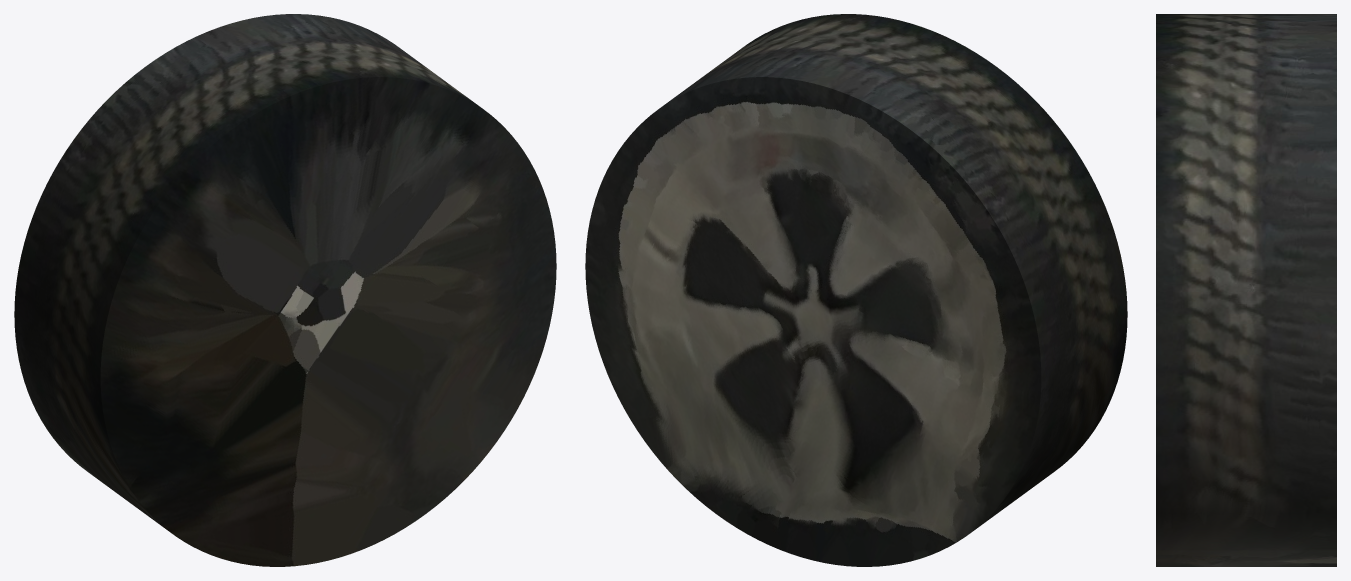
Rendered from left_wheel.dae.
3 views of the same model, side by side, from view 1: azimuth 30°, elevation 25°; view 2: azimuth 150°, elevation 25°; view 3: azimuth 270°, elevation 25° (orthographic). The views are drawn at different scales.
Parts seen in each view (by area): view 1: left_wheel; view 2: left_wheel; view 3: left_wheel.
Boxes of the visible parts, bbox=[...] form: left_wheel: bbox=[14, 14, 556, 566]; left_wheel: bbox=[585, 14, 1127, 566]; left_wheel: bbox=[1156, 14, 1336, 566].
Bounding box in the file's own units: 0.168 × 0.055 × 0.168.
1 material, 1 textured.
